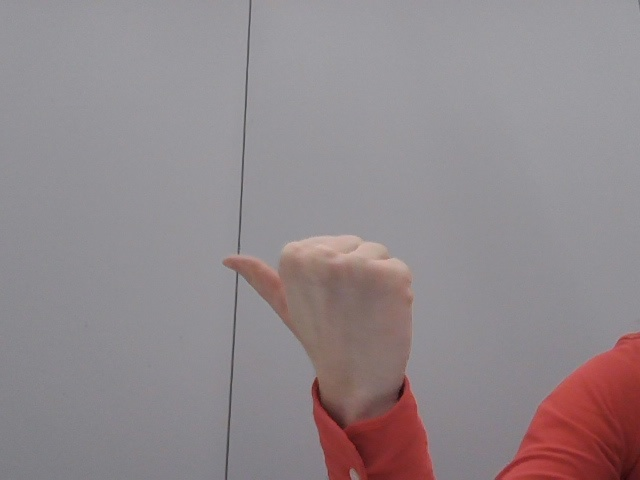right: (207, 208, 440, 445)
